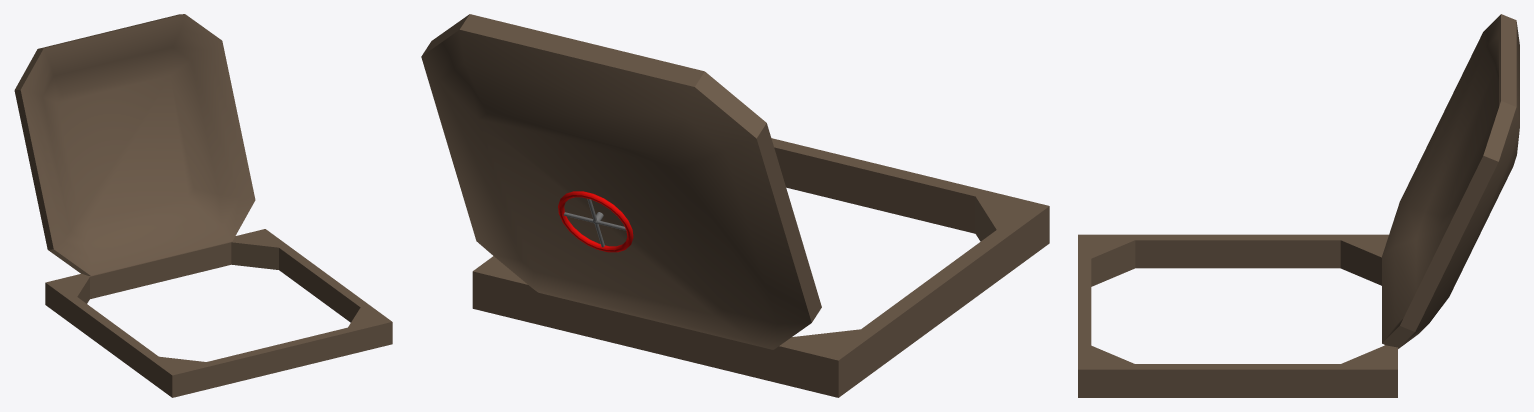
File: BunkerDoor2.fbx
3 renders of one model, left to right at view 1: azimuth 30°, elevation 25°; view 2: azimuth 150°, elevation 25°; view 3: azimuth 270°, elevation 25°, orthographic. The views are drawn at different scales.
Parts seen in each view (by area): view 1: Cube.001, Cube; view 2: Cube.001, Cube, Valve; view 3: Cube, Cube.001.
Part boxes in pixels (<box>): Cube.001: <box>14,14,255,275</box>; Cube: <box>45,229,392,397</box>; Cube.001: <box>421,14,821,349</box>; Cube: <box>472,138,1049,397</box>; Valve: <box>558,191,633,252</box>; Cube: <box>1078,234,1397,397</box>; Cube.001: <box>1382,14,1519,348</box>.
Size of the model in its own units: 600 by 565 by 829.
